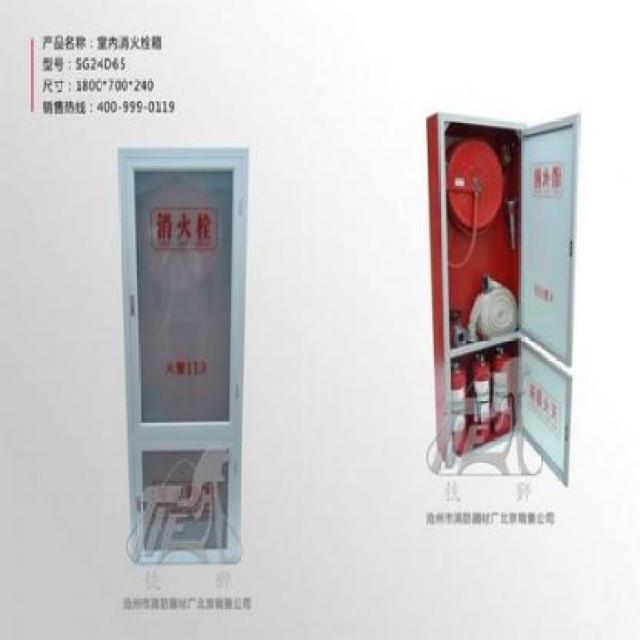firehydrant: (423, 108, 582, 495), (115, 140, 253, 572)
